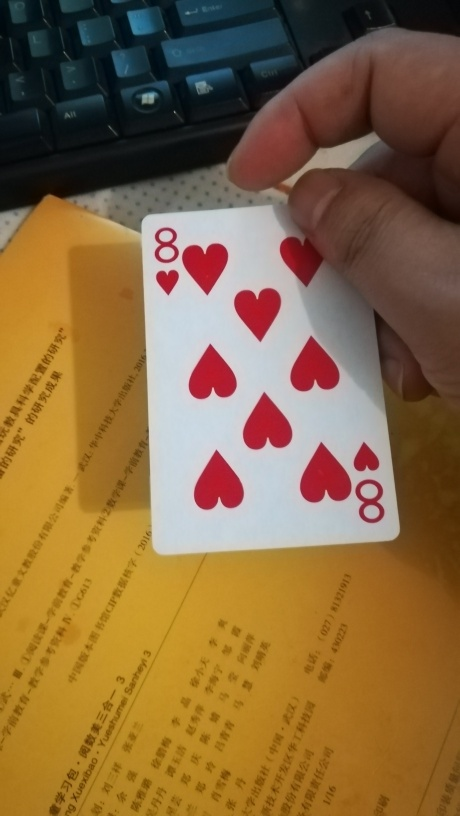hx 8: (139, 203, 404, 555)
